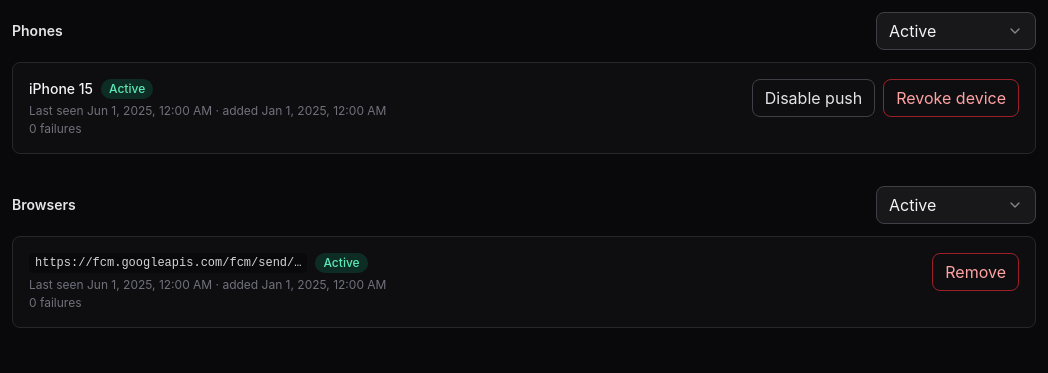
Test: SubscribersPanel › renders an error banner when a mutation rejects
Check: the text "https://fcm.googleapis.com/fcm/send/…" is shown, box [29, 253, 308, 273]
Click the button "Remove" at (976,272), box [932, 253, 1019, 291]
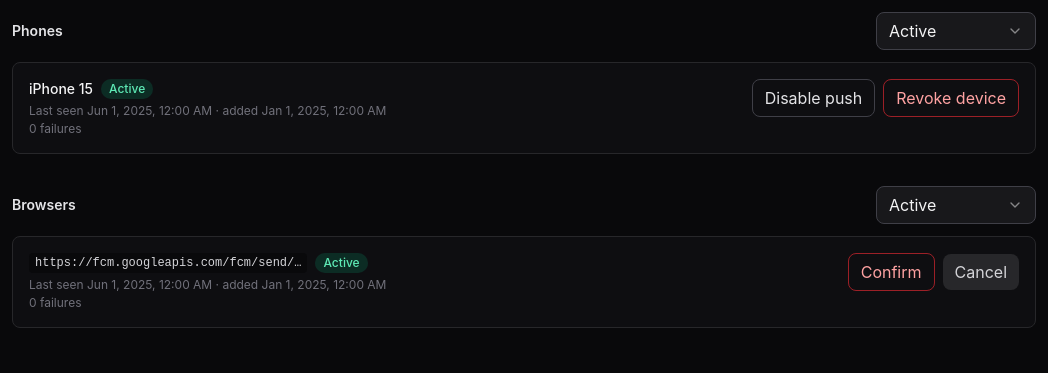
Click the button "Confirm" at (891,272), box [848, 253, 934, 291]
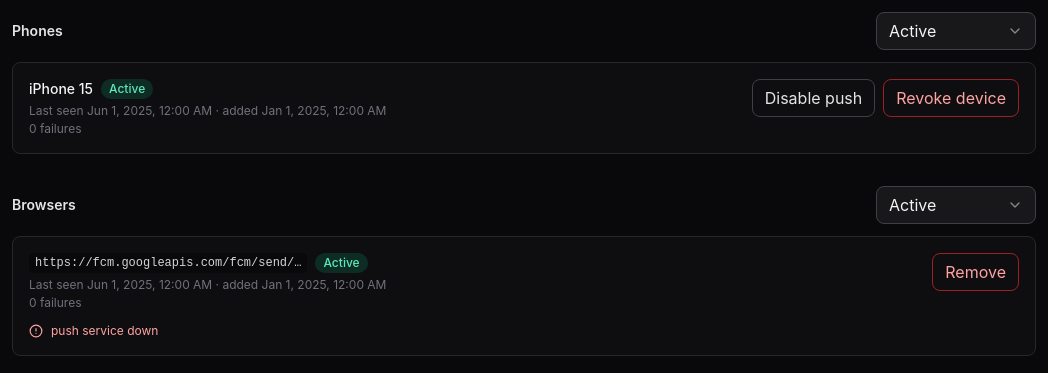
Check: the text "push service down" is shown, box [29, 323, 158, 338]
